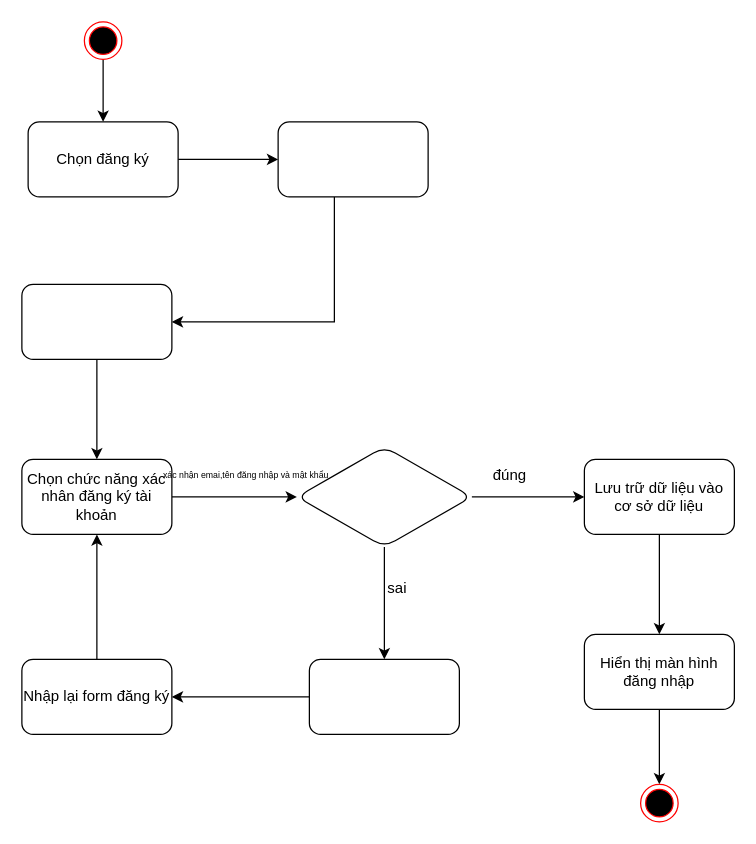
The diagram is 756 pixels wide and 844 high, and some of its shapes have lost their labels. The shapes that lost their labels are listed below. From the top down, each one's centre as x and y in pixels, then its label:
At [352,159]: "Hiển thị màn hình đăng ký".
At [96,321]: "Tạo tên đăng nhập và mật khẩu".
At [383,696]: "Hiển thị thông báo lỗi".
